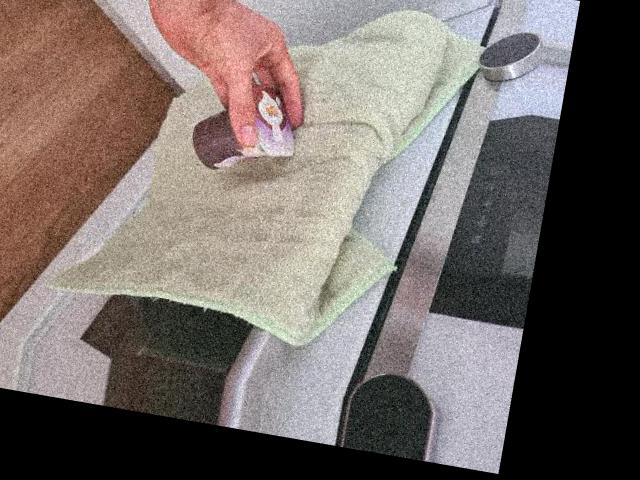milky: (188, 76, 305, 182)
